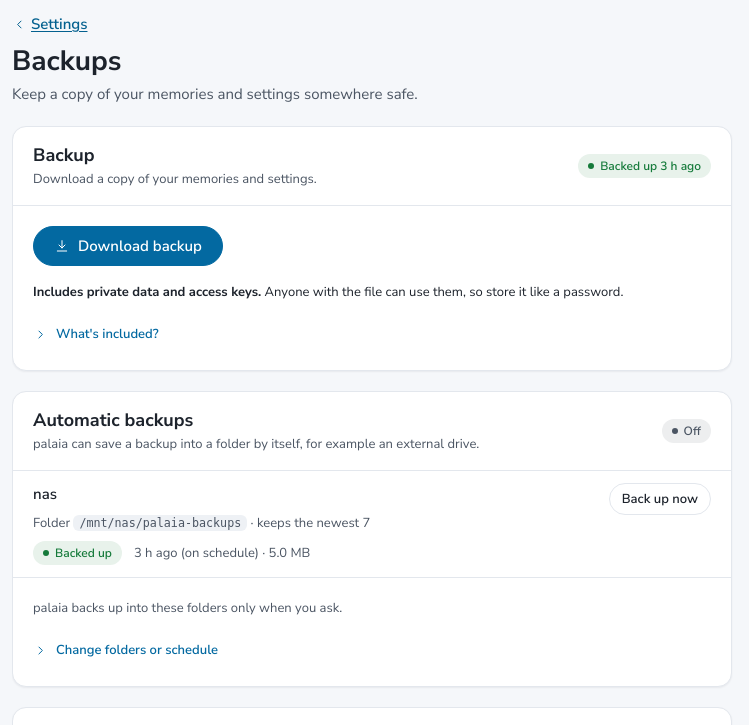
it: Backups (issue 438) › a folder already being written says so in the hub's words
The image size is (749, 725).
Click the button with aria-label "back up now into nas" at [660, 499], box [609,483,711,515]
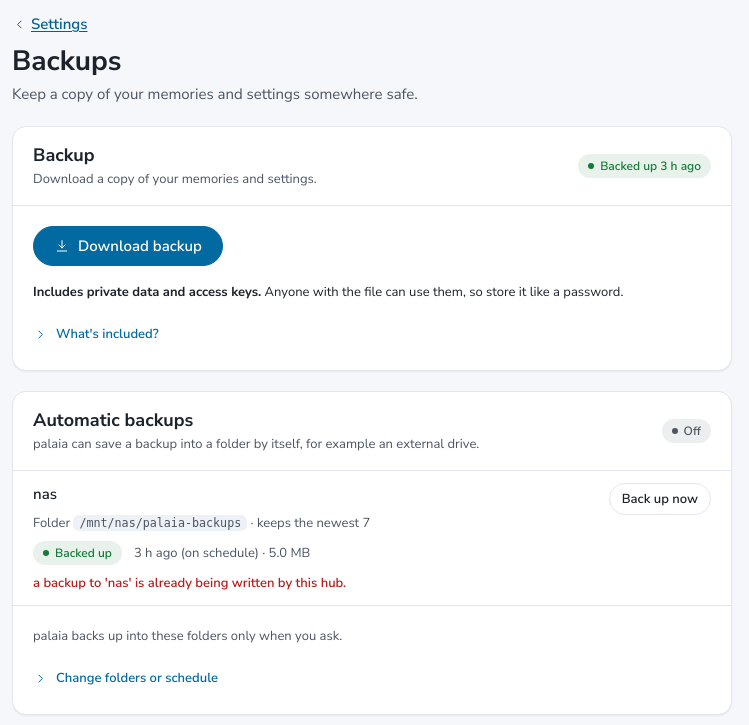
expect the text "a backup to 'nas' is already being written by this hub." is shown: met, box [33,574,346,592]
